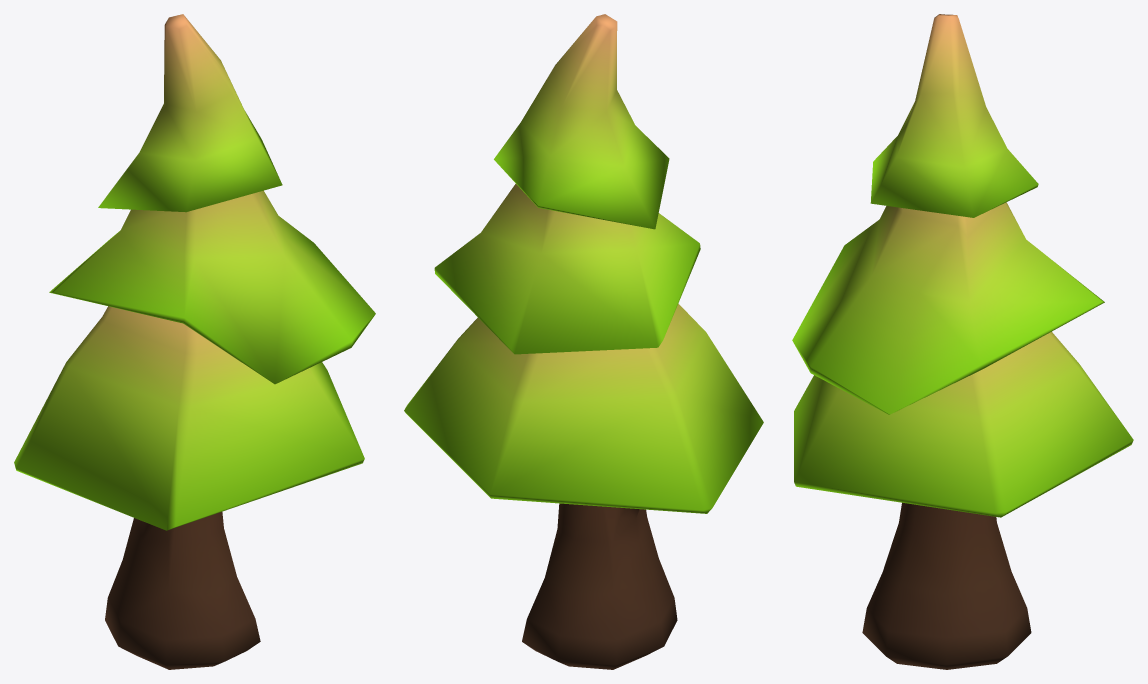
The model's file is Tree2.fbx.
3 renders of one model, left to right at view 1: azimuth 30°, elevation 25°; view 2: azimuth 150°, elevation 25°; view 3: azimuth 270°, elevation 25°, orthographic.
Visible parts, largest first — view 1: Tree2; view 2: Tree2; view 3: Tree2.
Part boxes in pixels (x1,y1,x2,y2): Tree2: (14, 14, 375, 669); Tree2: (404, 14, 763, 669); Tree2: (792, 14, 1133, 669).
Size of the model in its own units: 328 by 642 by 313.
